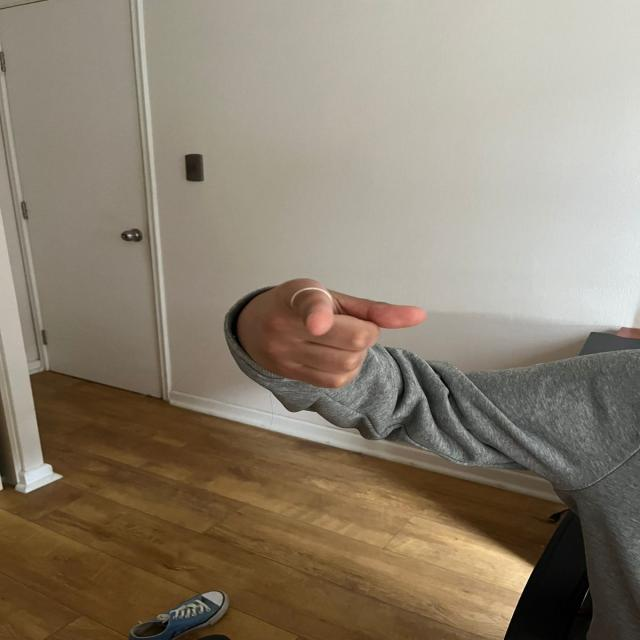X: (234, 271, 426, 394)
